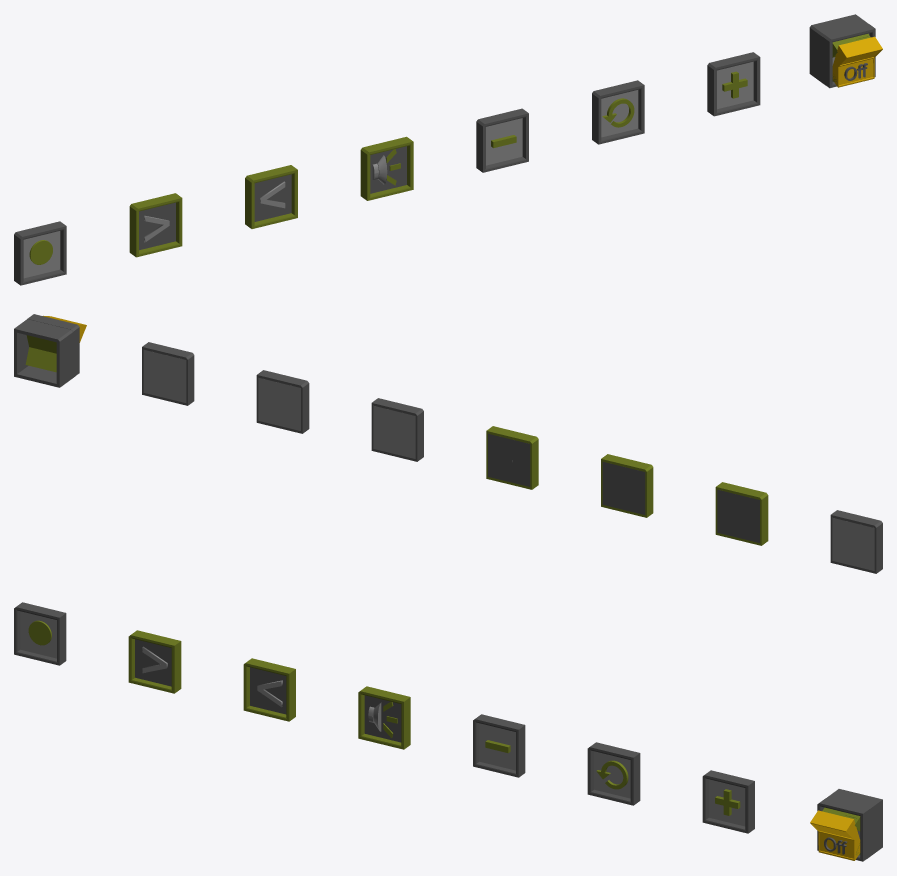
The model's file is buttons_convert.glb.
The picture shows the model from 3 angles, top to bottom: view 1: azimuth 30°, elevation 25°; view 2: azimuth 150°, elevation 25°; view 3: azimuth 330°, elevation 25°; orthographic projection.
Visible parts, largest first — view 1: Cube.001, Cube.004, Cube.002, Right, Left, Minus, Cube, Text.001, Cube.005, Cube.014, Cube.011, Cube.012 (+5 smaller); view 2: Text.001, Cube.008, Cube.007, Cube.011, Cube.009, Cube.010, Cube.012, Cube.013, Cube.014, Right, Cube.005, Minus (+5 smaller); view 3: Cube.001, Cube.004, Cube.002, Right, Left, Minus, Cube, Cube.005, Text.001, Cube.014, Cube.012, Cube.011 (+5 smaller).
Boxes of the visible parts, x1=… form: Cube.001: x1=360, y1=136, x2=413, y2=200; Cube.004: x1=14, y1=221, x2=66, y2=285; Cube.002: x1=707, y1=52, x2=760, y2=116; Right: x1=129, y1=193, x2=182, y2=257; Left: x1=245, y1=165, x2=297, y2=228; Minus: x1=476, y1=108, x2=528, y2=172; Cube: x1=832, y1=36, x2=882, y2=87; Text.001: x1=809, y1=14, x2=870, y2=83; Cube.005: x1=592, y1=80, x2=644, y2=144; Cube.014: x1=486, y1=118, x2=522, y2=165; Cube.011: x1=254, y1=174, x2=291, y2=221; Cube.012: x1=139, y1=202, x2=175, y2=250; Text.001: x1=14, y1=319, x2=72, y2=387; Cube.008: x1=14, y1=319, x2=73, y2=387; Cube.007: x1=143, y1=350, x2=186, y2=402; Cube.011: x1=602, y1=462, x2=645, y2=514; Cube.009: x1=258, y1=377, x2=300, y2=430; Cube.010: x1=488, y1=433, x2=530, y2=486; Cube.012: x1=717, y1=489, x2=759, y2=542; Cube.013: x1=832, y1=517, x2=874, y2=570; Cube.014: x1=373, y1=405, x2=415, y2=458; Right: x1=715, y1=482, x2=768, y2=545; Cube.005: x1=256, y1=370, x2=309, y2=433; Minus: x1=371, y1=398, x2=423, y2=461; Cube.001: x1=358, y1=686, x2=410, y2=749; Cube.004: x1=14, y1=602, x2=66, y2=665; Cube.002: x1=702, y1=770, x2=754, y2=833; Right: x1=128, y1=630, x2=181, y2=693; Left: x1=243, y1=658, x2=295, y2=721; Minus: x1=473, y1=714, x2=525, y2=777; Cube: x1=810, y1=810, x2=860, y2=860; Cube.005: x1=587, y1=742, x2=640, y2=805; Text.001: x1=822, y1=789, x2=882, y2=858; Cube.014: x1=479, y1=723, x2=515, y2=770; Cube.012: x1=135, y1=639, x2=171, y2=686; Cube.011: x1=250, y1=667, x2=286, y2=714.
Size of the model in its own units: 73.99 by 4.01 by 4.83.
